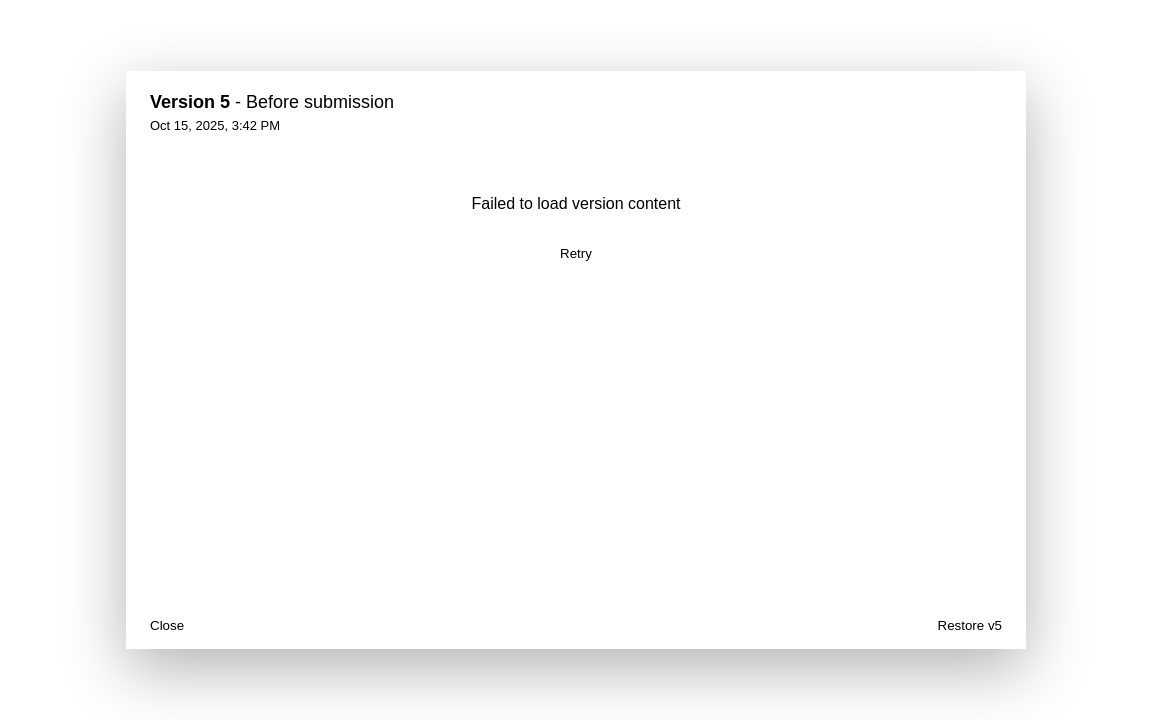
VersionPreviewModal › mounting and content fetching › can retry after fetch failure
The image size is (1152, 720).
Expected: the element with class "error-state" is shown, [472,195,680,261]
Click retry button
What coordinates should you click on to do the following:
click the button "Retry"
I would click on:
 (576, 253)
Its box is [560,246,592,261].
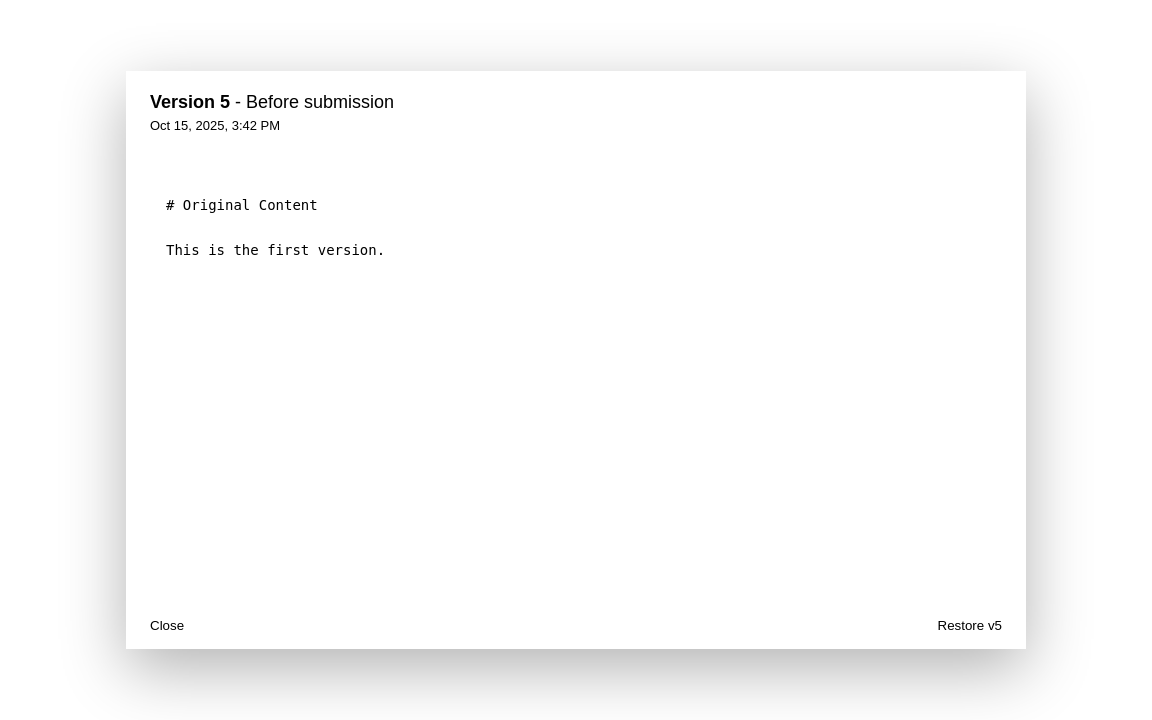
Now the element showing "# Original Content This is the first version." is shown, box [166,197,385,258]
